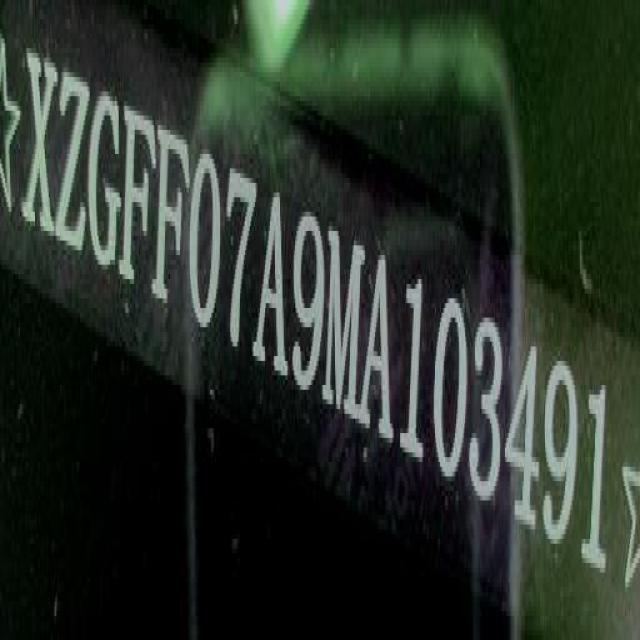0: (433, 284, 469, 493), (191, 137, 226, 345)
1: (399, 271, 428, 473), (587, 377, 612, 585)
3: (472, 301, 504, 517)
4: (509, 329, 542, 540)
7: (226, 159, 257, 376)
9: (292, 202, 327, 408), (545, 355, 580, 556)
A: (257, 178, 291, 390), (366, 243, 396, 450)
F: (154, 113, 190, 330), (120, 100, 157, 300)
G: (90, 81, 125, 282)
M: (326, 220, 368, 432)
X: (20, 37, 58, 245)
Z: (53, 61, 89, 267)
